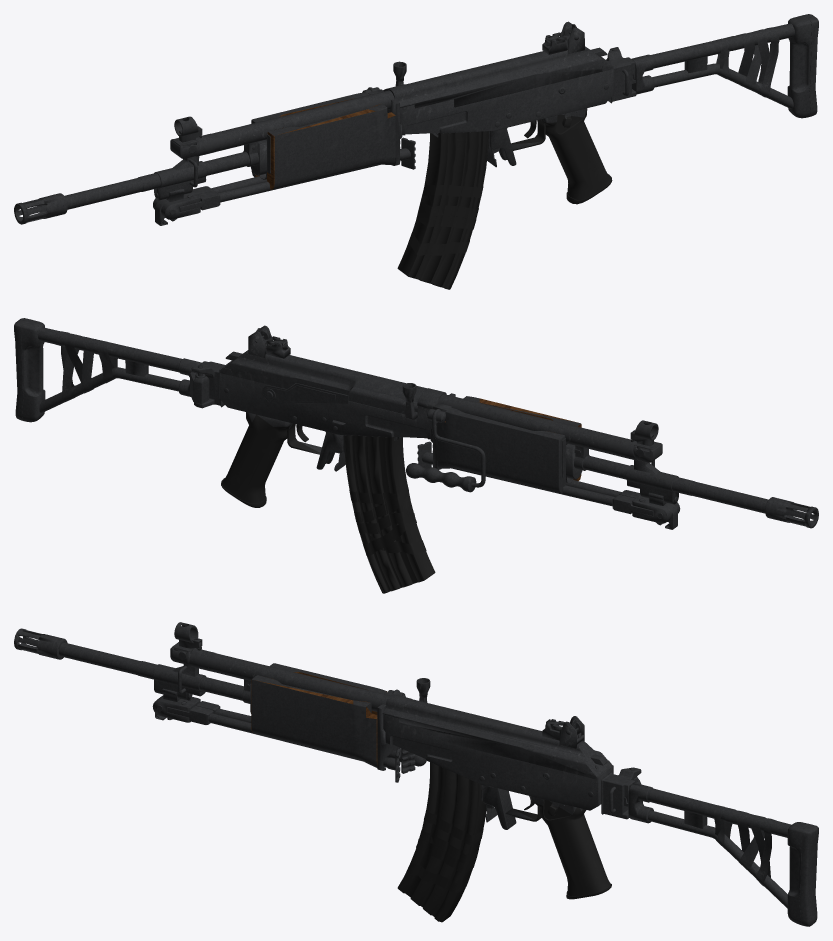
File: galil.glb
The picture shows the model from 3 angles, top to bottom: view 1: azimuth 30°, elevation 25°; view 2: azimuth 150°, elevation 25°; view 3: azimuth 330°, elevation 25°; orthographic projection.
Parts seen in each view (by area): view 1: galil; view 2: galil; view 3: galil.
Boxes of the visible parts, x1,y1,x2,y2 form: galil: (14, 14, 818, 289); galil: (14, 318, 818, 593); galil: (14, 622, 818, 926).
Size of the model in its own units: 0.98 by 0.2724 by 0.0633.
3 materials, 3 textured.
